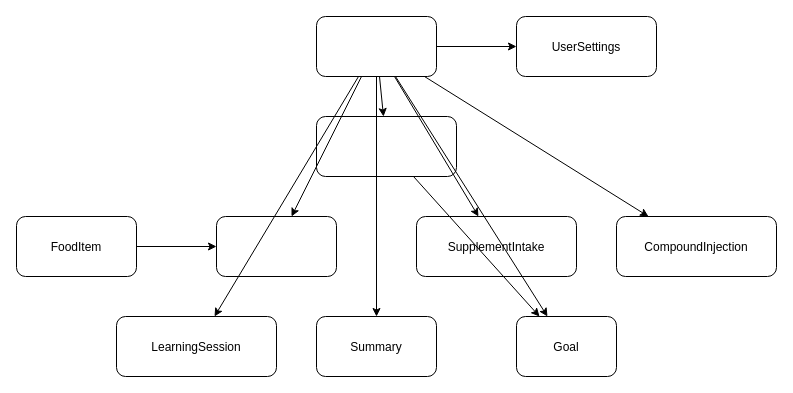
Some shapes in this 793 by 393 pixel diagram are drawn without their labels. The shapes that lost their labels are listed below. From the top down, each one's box as (x1, y1, x2, y2) in pixels, then its label:
(316, 16, 436, 76): User
(316, 116, 456, 176): ScheduleEntry
(216, 216, 336, 276): FoodLog
